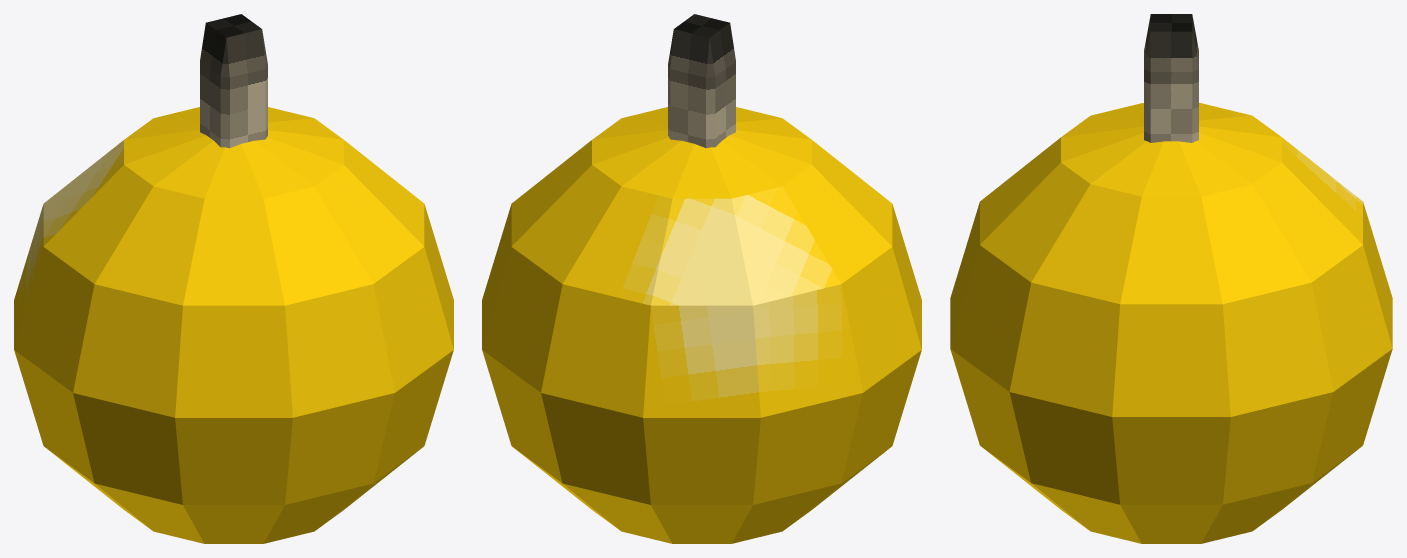
File: gold.gltf
3 renders of one model, left to right at view 1: azimuth 30°, elevation 25°; view 2: azimuth 150°, elevation 25°; view 3: azimuth 270°, elevation 25°, orthographic.
Parts seen in each view (by area): view 1: sphere, beveled_cuboid; view 2: sphere, beveled_cuboid; view 3: sphere, beveled_cuboid.
Boxes of the visible parts, box(x1,y1,x2,y2) form: sphere: box(14, 107, 453, 543); beveled_cuboid: box(200, 14, 267, 148); sphere: box(482, 107, 921, 543); beveled_cuboid: box(668, 14, 735, 148); sphere: box(950, 103, 1392, 543); beveled_cuboid: box(1144, 14, 1198, 142).
Size of the model in its own units: 1 by 1.25 by 1.
1 material, 1 textured.
